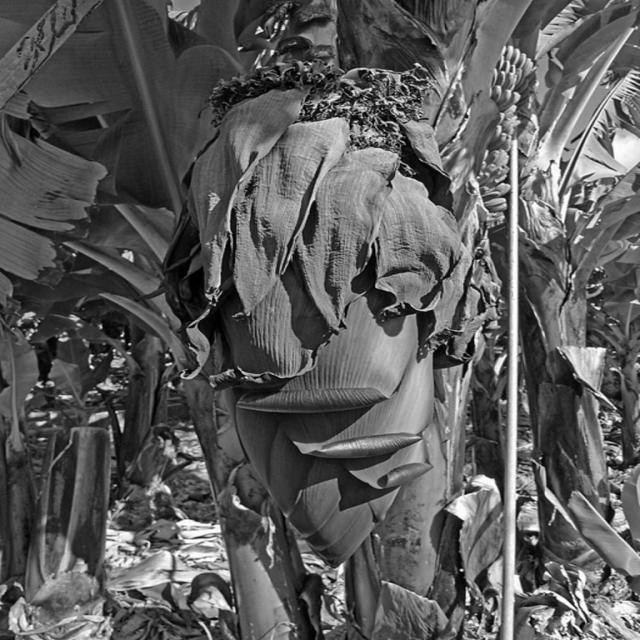Non_Gorille: (2, 3, 636, 638)
